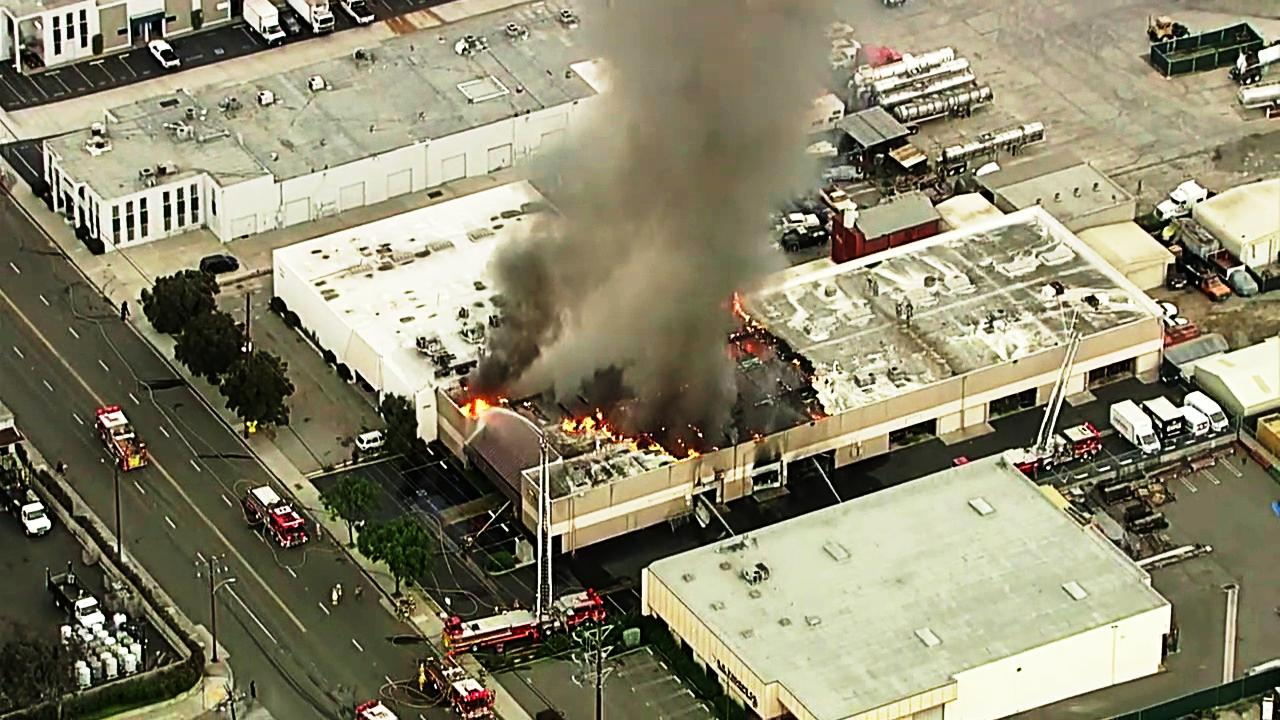smoke: (543, 0, 803, 318)
